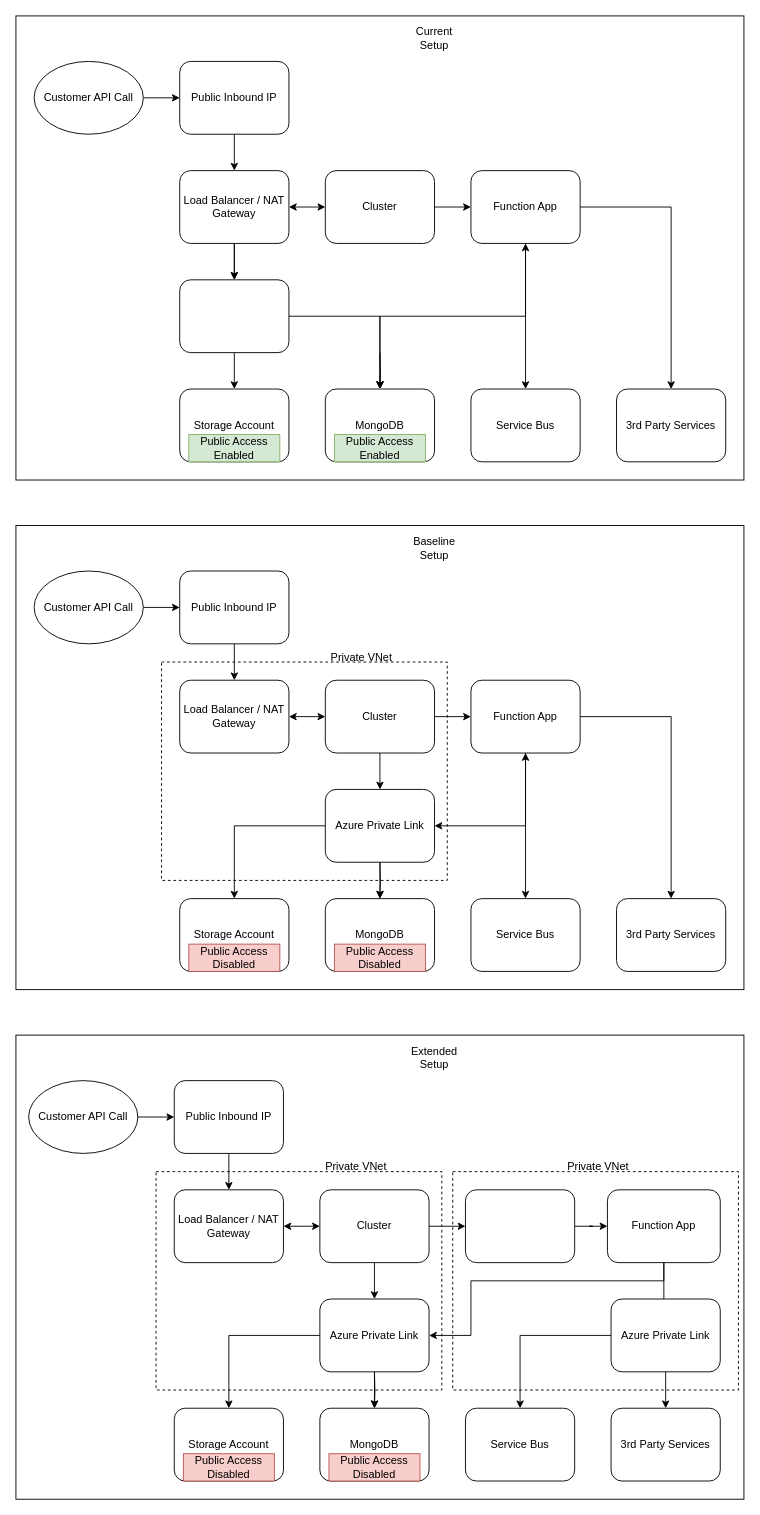
This 760x1515 diagram has some shape labels left out. The shapes that lost their labels are listed below. From the top down, each one's centre as x and y in pixels, then its label:
At (234,316): "Public Outbound IP".
At (520,1226): "VNet Peering / Azure Private Link".
